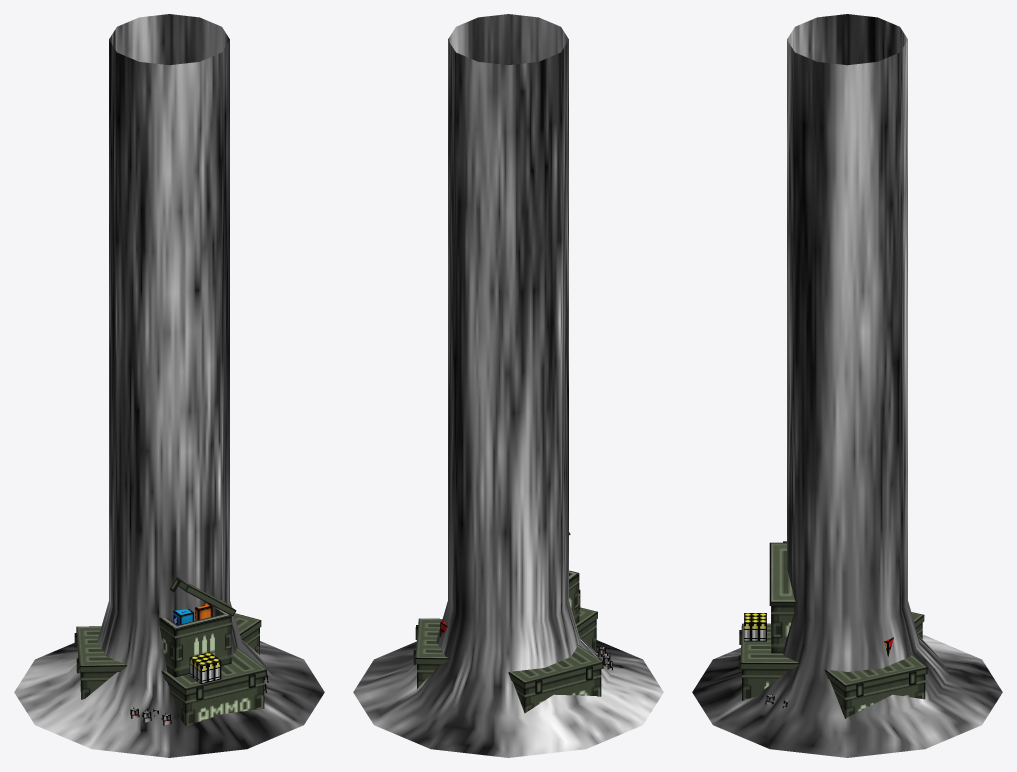
File: Point_Ammo #675138.fbx
The picture shows the model from 3 angles, left to right: view 1: azimuth 30°, elevation 25°; view 2: azimuth 150°, elevation 25°; view 3: azimuth 270°, elevation 25°; orthographic projection.
Visible parts, largest first — view 1: Funnel, Point_Ammo; view 2: Funnel, Point_Ammo; view 3: Funnel, Point_Ammo.
Boxes of the visible parts, x1,y1,x2,y2 form: Funnel: [14, 14, 324, 757]; Point_Ammo: [74, 577, 268, 725]; Funnel: [353, 14, 663, 757]; Point_Ammo: [413, 532, 612, 713]; Funnel: [692, 14, 1002, 757]; Point_Ammo: [738, 541, 927, 718].
Bounding box in the file's own units: 3.57 × 8.36 × 3.57.
2 materials, 2 textured.
